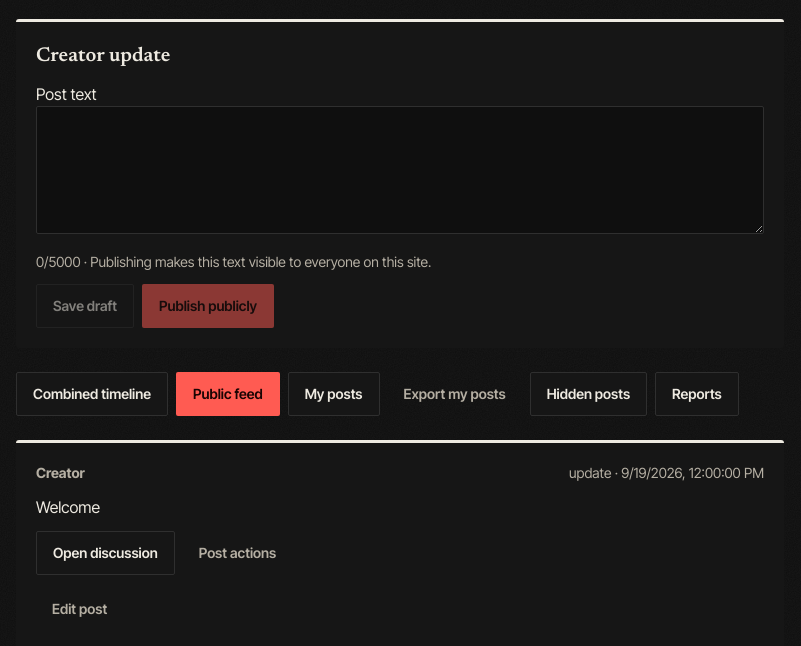
Test case: community publishing › opens replies without losing them when the feed refreshes
The image size is (801, 646).
(page scrolled)
What coordinates should you click on to do the following:
click the button "Open discussion"
I would click on:
 (105, 553)
Its box is [36,531,175,575].
(page scrolled)
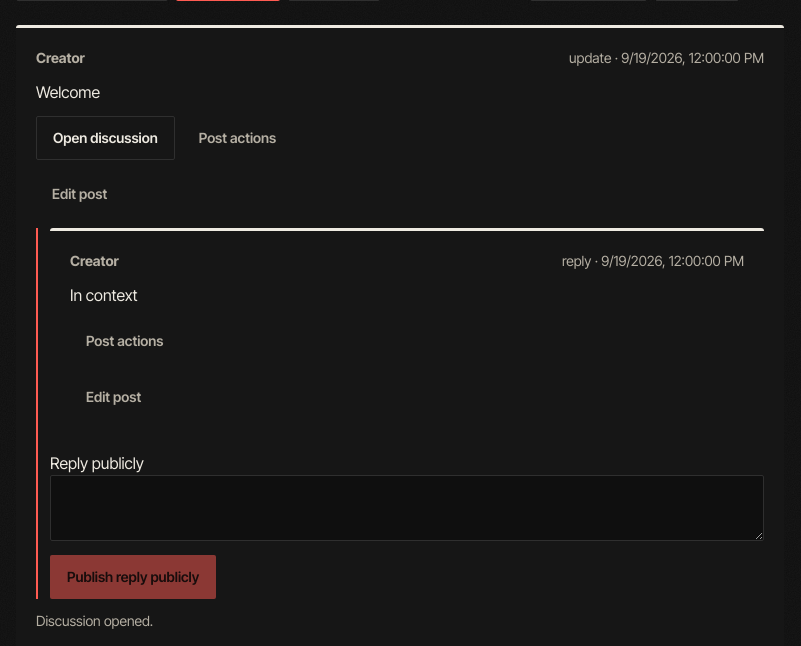
Result: the text "In context" is shown at [70,285,138,305]
Result: the text box labelled "Reply publicly" is shown at [50,475,764,541]
